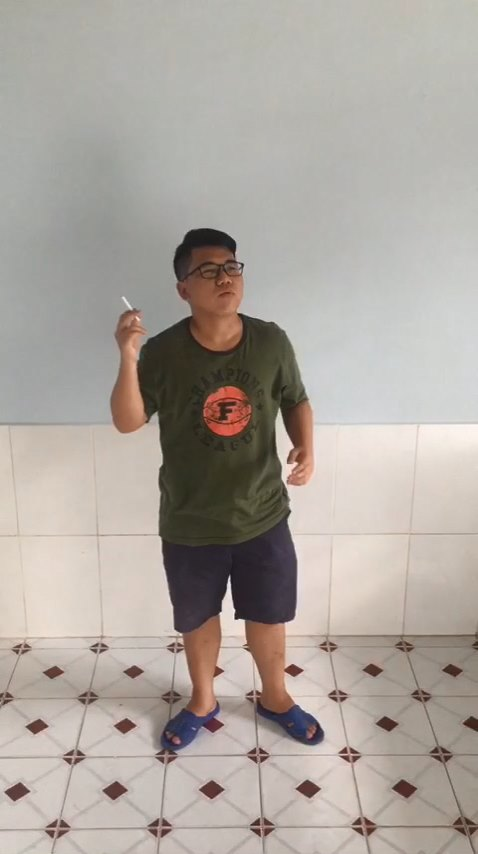cigarette: (119, 290, 147, 325)
person: (91, 214, 346, 769)
